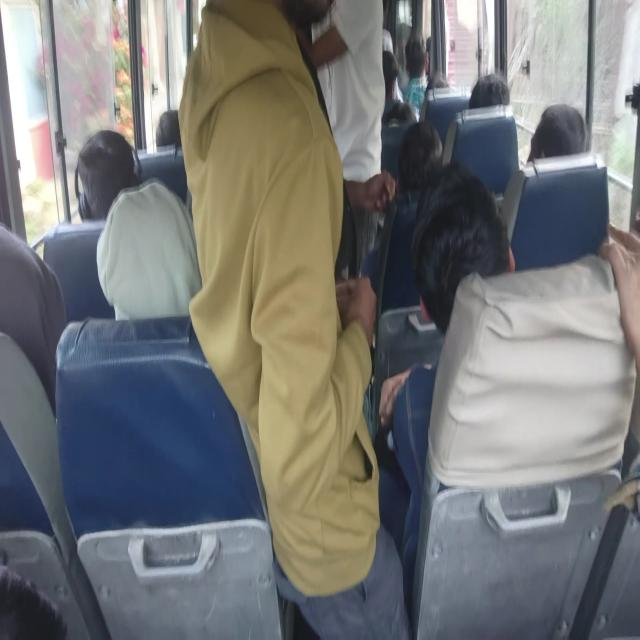person: (175, 0, 347, 236), (94, 175, 233, 392), (567, 168, 640, 466), (316, 0, 386, 202), (408, 183, 513, 315), (68, 130, 150, 233), (0, 260, 60, 400), (528, 100, 591, 166), (399, 129, 441, 181), (471, 73, 512, 112), (405, 26, 433, 81), (387, 48, 418, 86), (157, 101, 184, 142), (380, 108, 414, 126)
